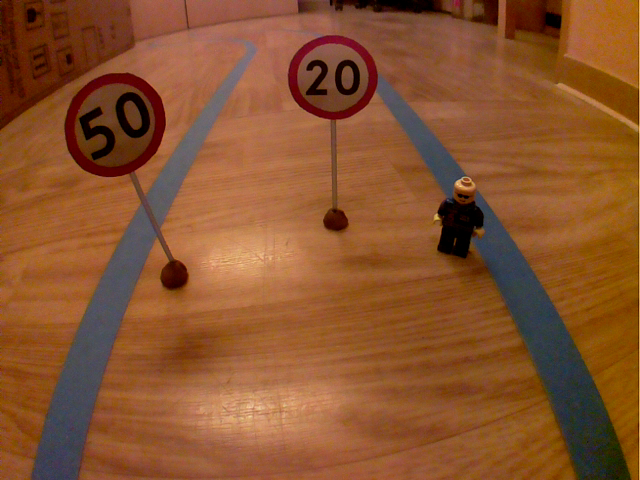Ograniczenie 20: (285, 32, 383, 124)
Ograniczenie 50: (60, 67, 169, 182)
Postac LEGO: (430, 169, 491, 263)
